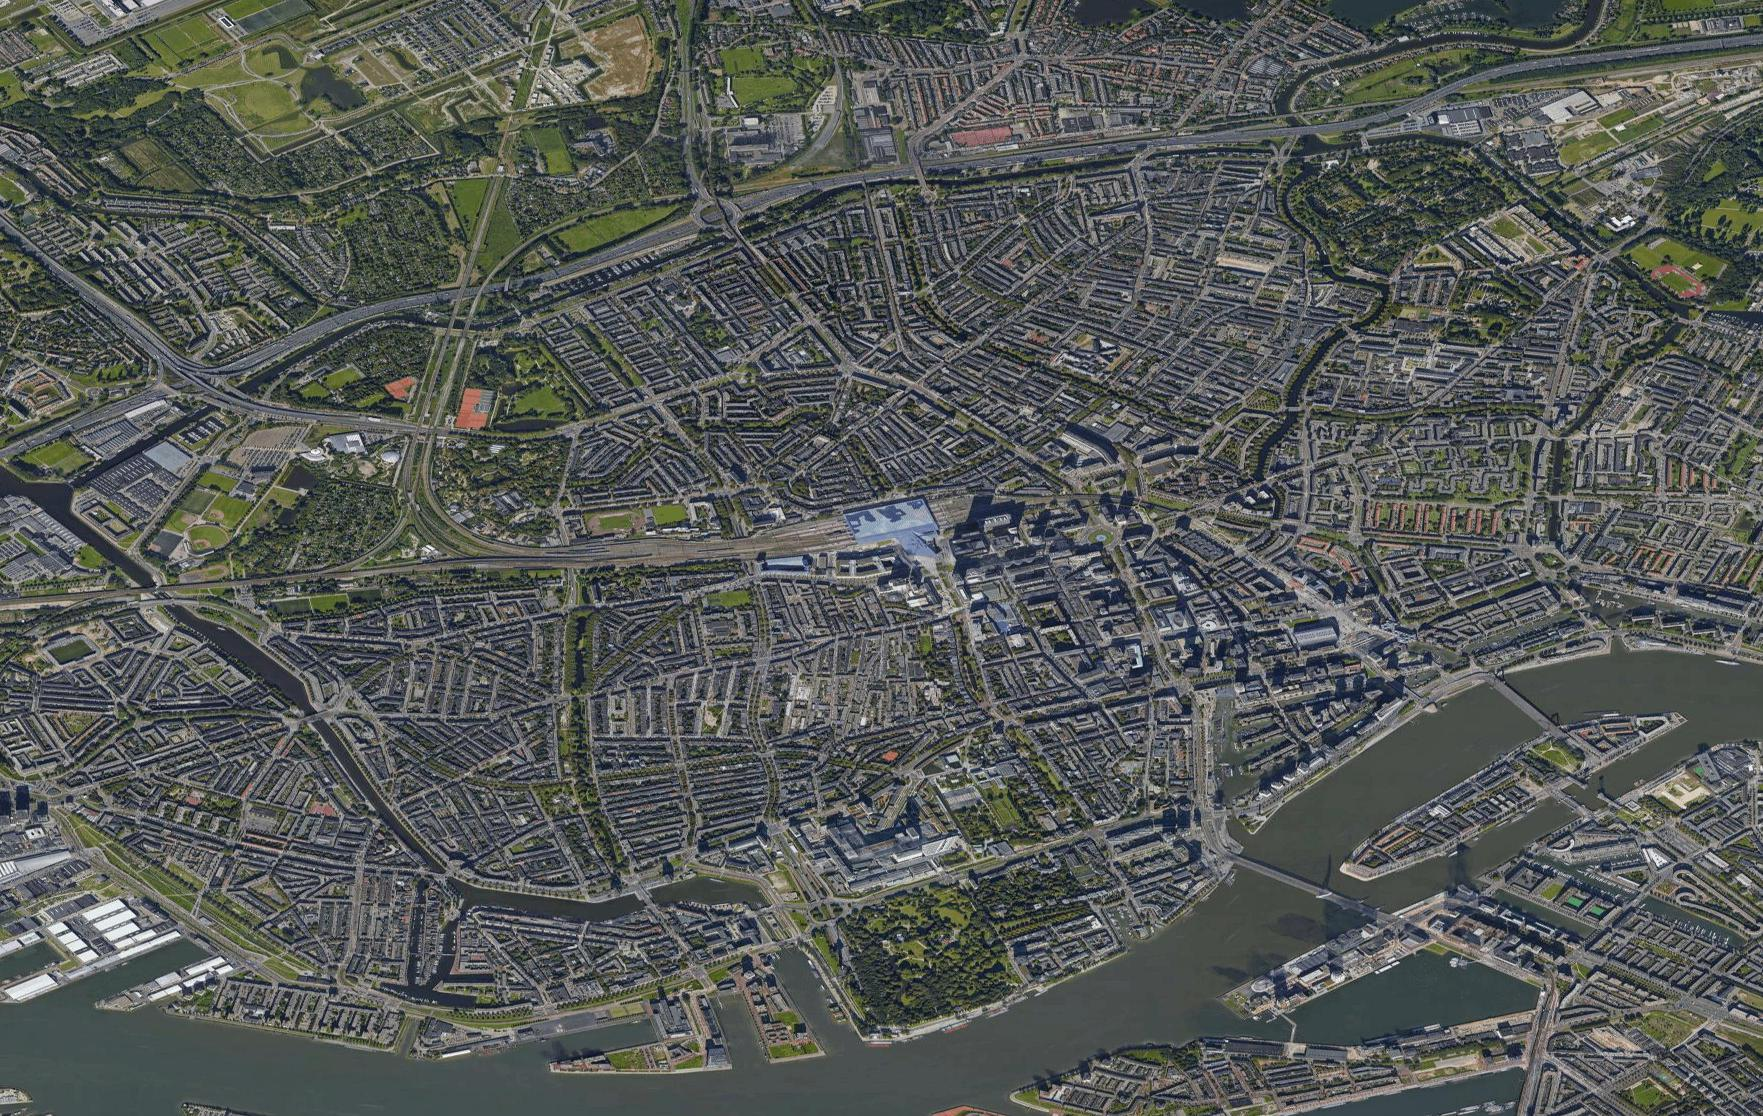bridge: (1226, 856, 1378, 918), (1489, 674, 1559, 734)
harbor: (402, 945, 884, 1086), (1, 914, 275, 1047)
motorway: (1, 370, 221, 460), (535, 198, 714, 282), (712, 154, 919, 220), (1169, 102, 1419, 147), (919, 131, 1169, 175), (346, 267, 533, 324), (211, 312, 342, 383), (1551, 32, 1760, 75), (1417, 51, 1548, 105)
train_station: (779, 499, 953, 555)
